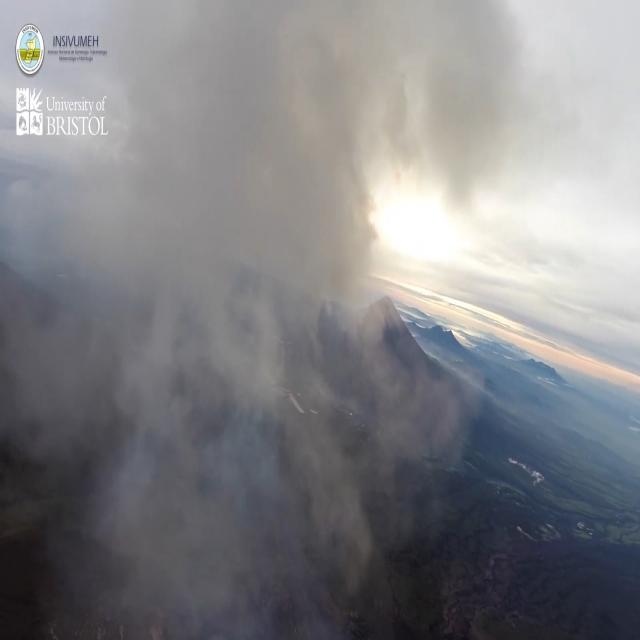Plume: (51, 0, 507, 640)
